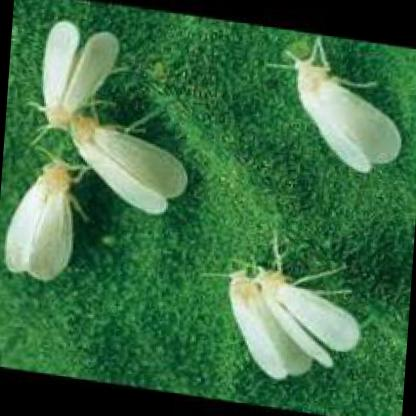whitefly: (294, 59, 402, 171), (72, 116, 187, 212), (40, 21, 121, 132), (5, 166, 76, 278)
